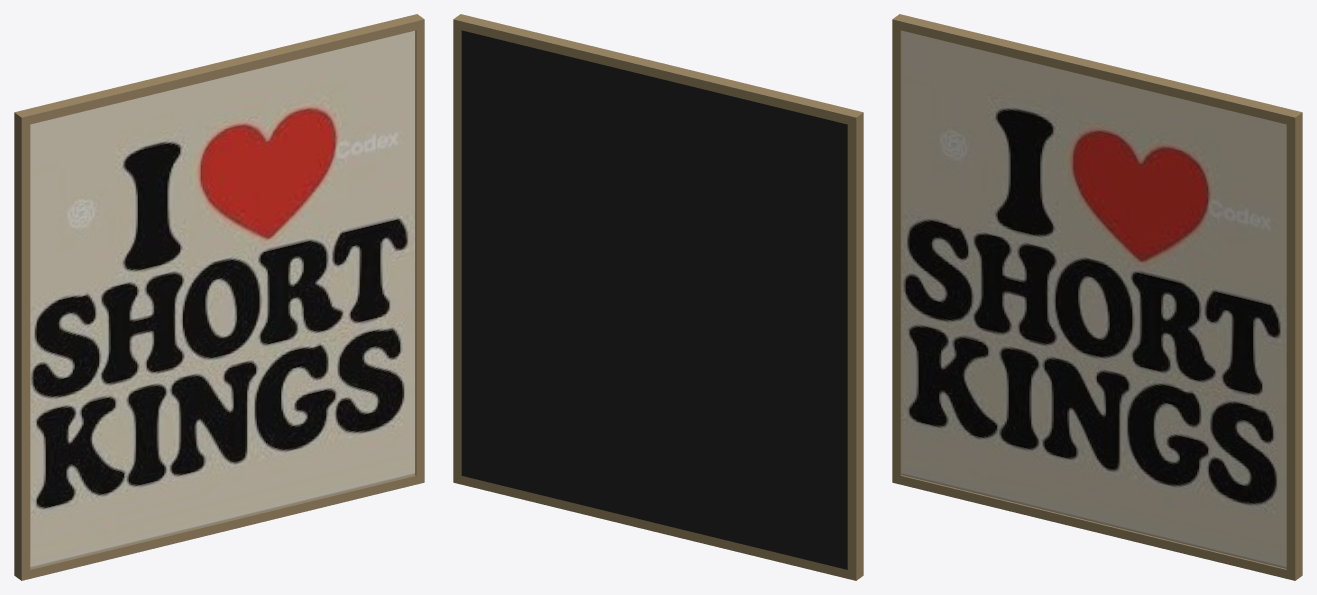
The model's file is 668656b6-64b6-4e6f-bebe-869786ae5cac.glb.
3 renders of one model, left to right at view 1: azimuth 30°, elevation 25°; view 2: azimuth 150°, elevation 25°; view 3: azimuth 330°, elevation 25°, orthographic.
Visible parts, largest first — view 1: ArtworkPrint, FrameLeft, FrameTop, FrameRight, FrameBottom; view 2: Backing, FrameLeft, FrameTop, FrameRight, FrameBottom; view 3: ArtworkPrint, FrameRight, FrameTop, FrameLeft, FrameBottom.
Boxes of the visible parts, bbox=[...] form: ArtworkPrint: bbox=[30, 30, 415, 568]; FrameLeft: bbox=[14, 121, 30, 571]; FrameTop: bbox=[14, 14, 424, 126]; FrameRight: bbox=[415, 28, 424, 475]; FrameBottom: bbox=[14, 474, 424, 580]; Backing: bbox=[461, 30, 847, 569]; FrameLeft: bbox=[847, 121, 863, 571]; FrameTop: bbox=[453, 14, 863, 126]; FrameRight: bbox=[453, 28, 461, 475]; FrameBottom: bbox=[453, 474, 863, 580]; ArtworkPrint: bbox=[901, 30, 1286, 568]; FrameRight: bbox=[1286, 121, 1302, 571]; FrameTop: bbox=[892, 14, 1302, 126]; FrameLeft: bbox=[892, 28, 901, 475]; FrameBottom: bbox=[892, 474, 1302, 580].
Size of the model in its own units: 0.9468 by 1.04 by 0.03.
Materials: 3 (1 with a texture image).
